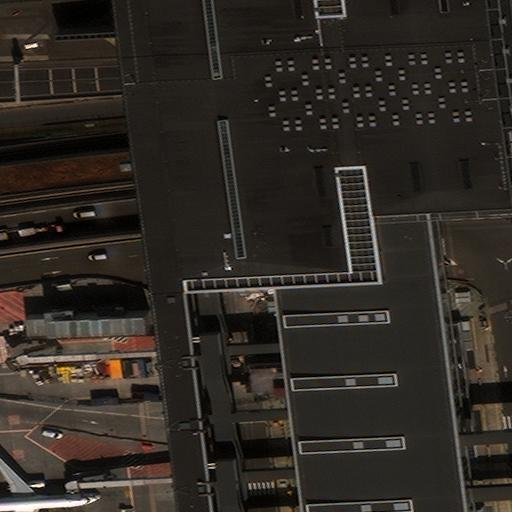Medium Civil Transport: (0, 457, 96, 511)
